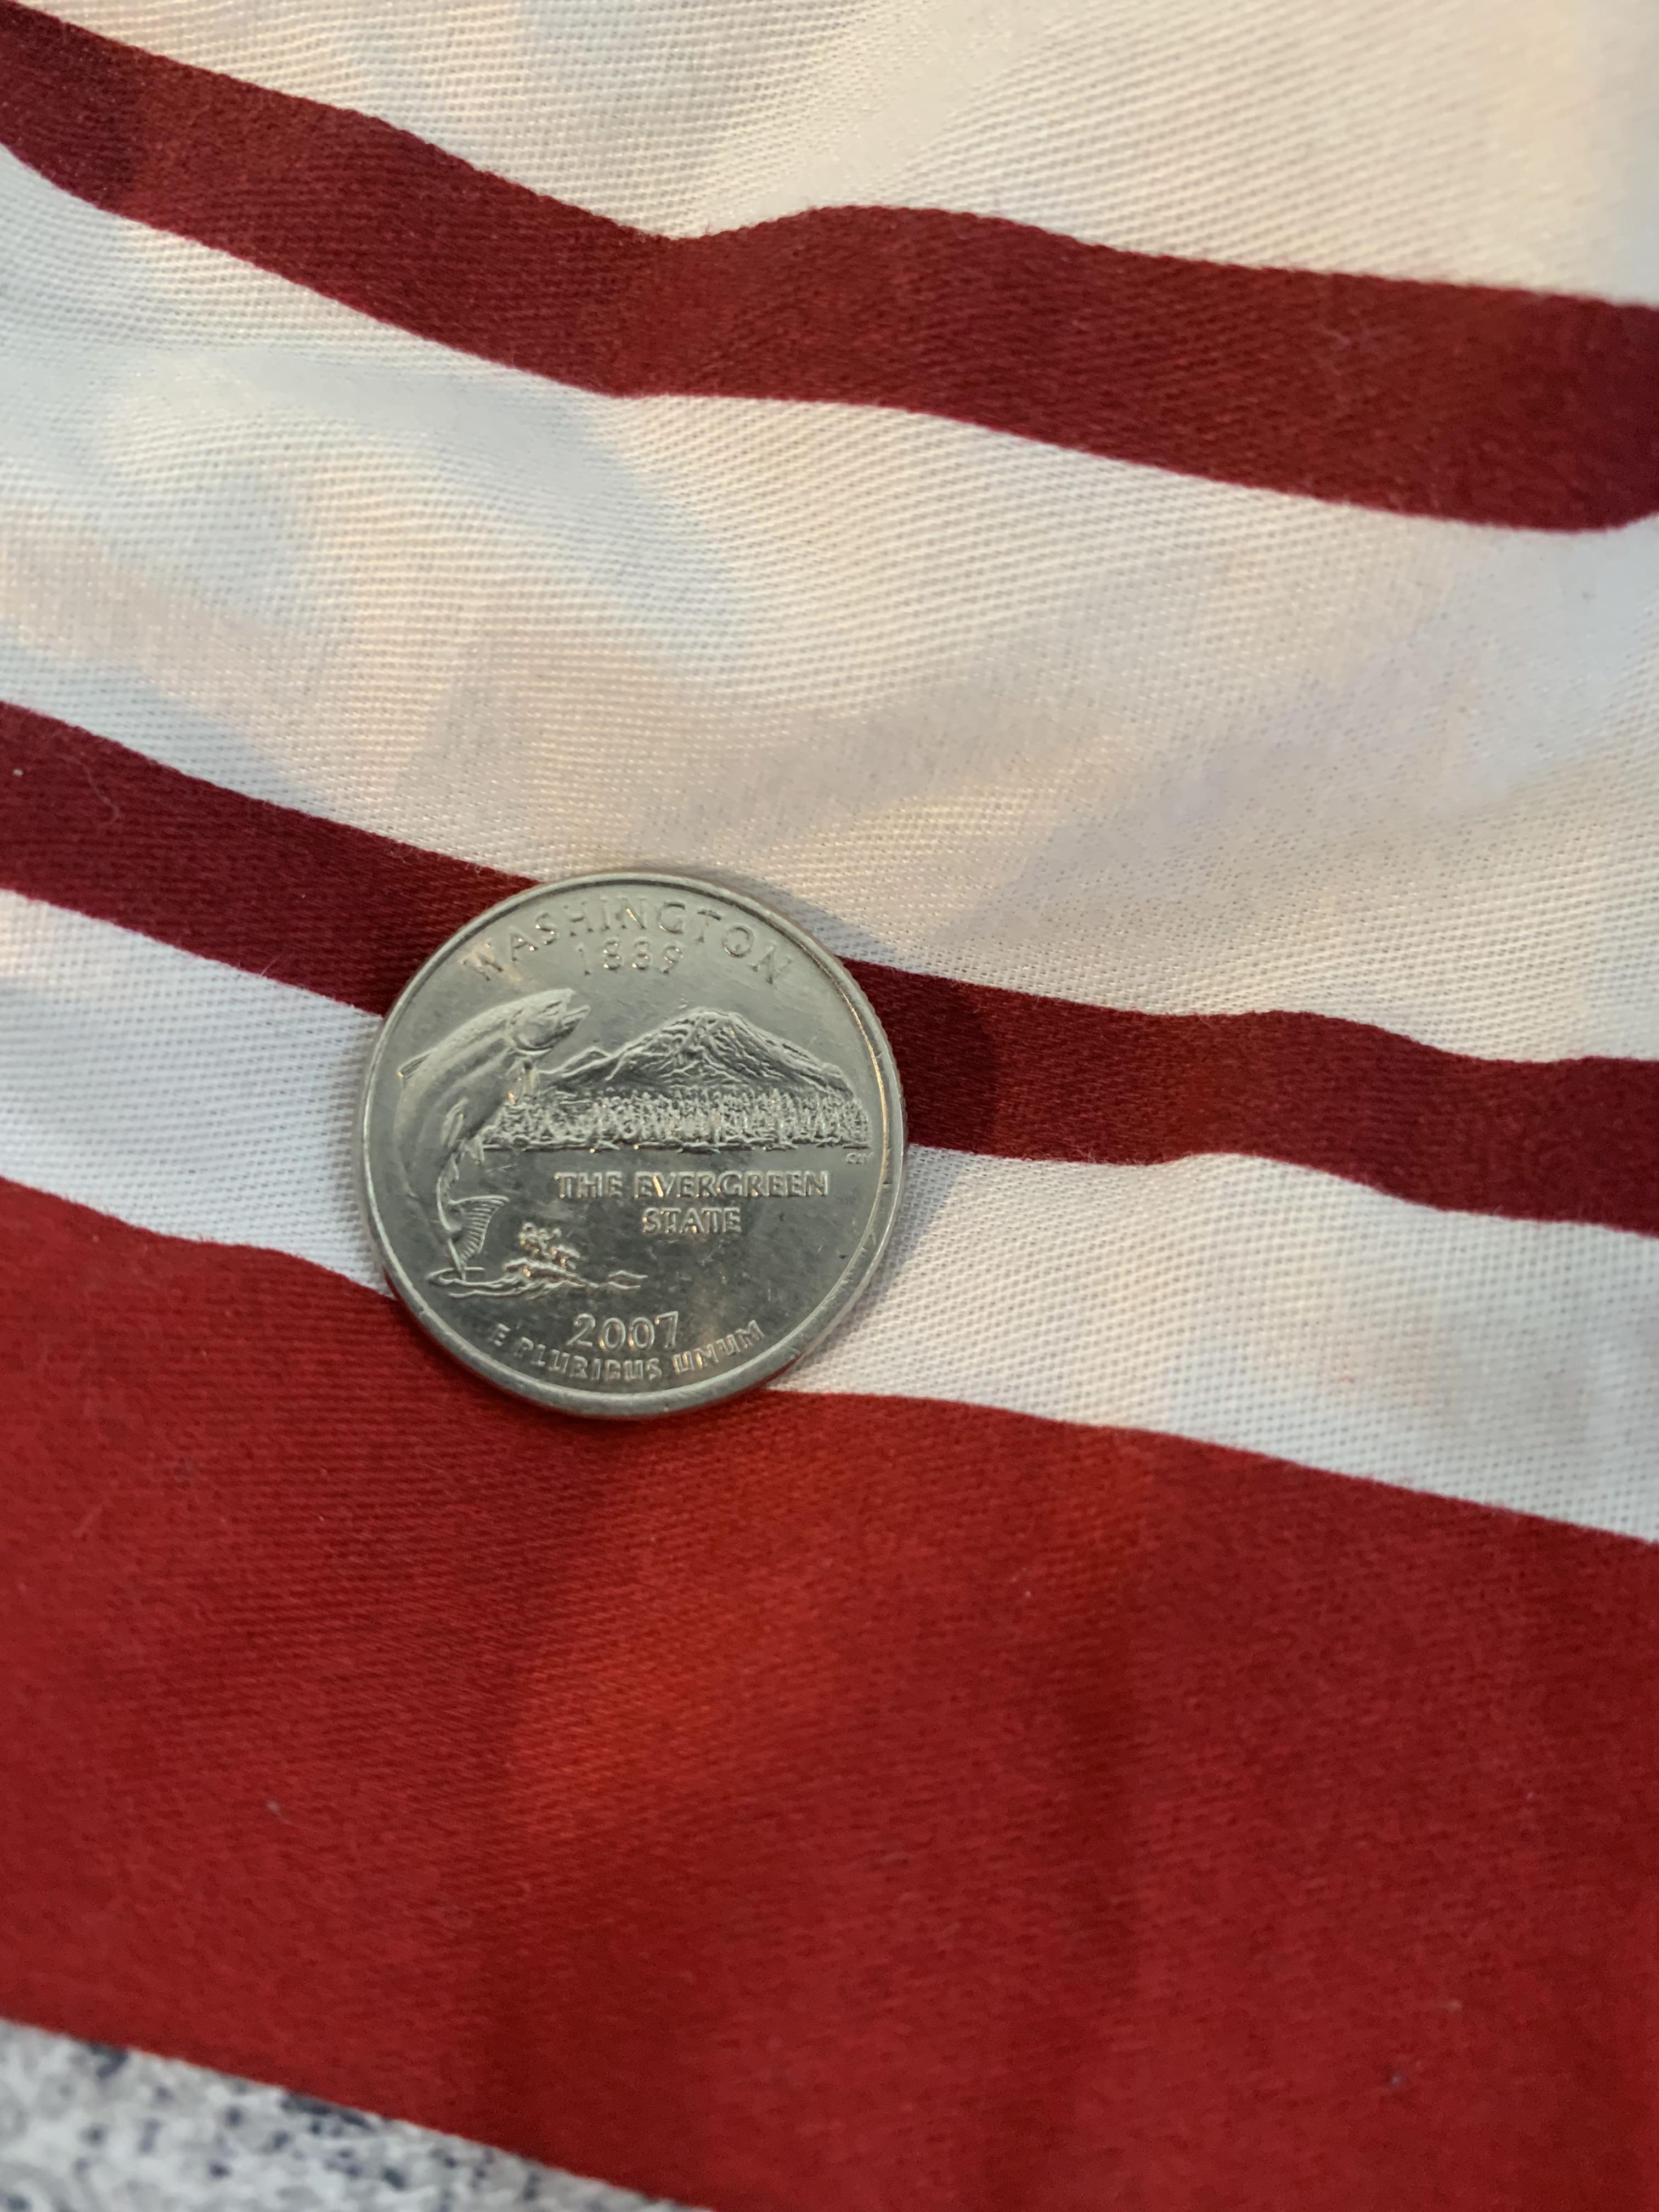Quarter: (349, 853, 924, 1439)
